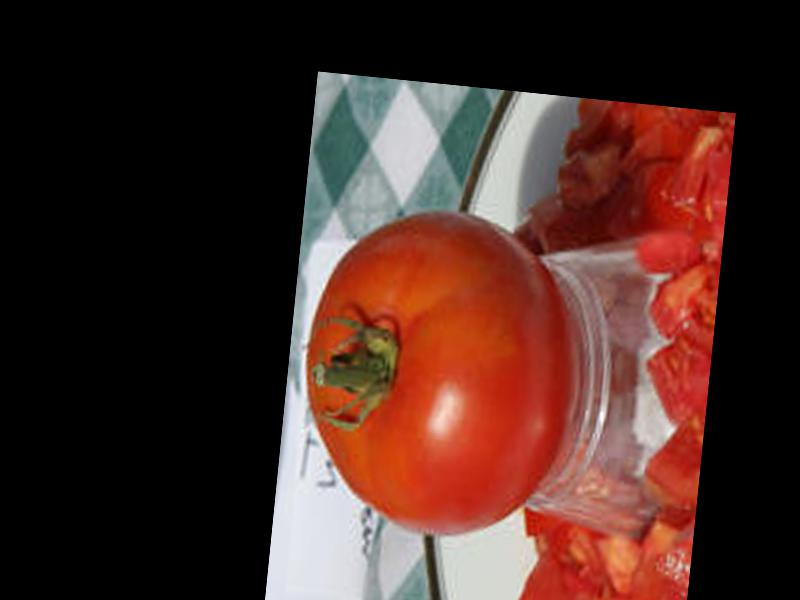Tomato: (287, 197, 587, 549)
